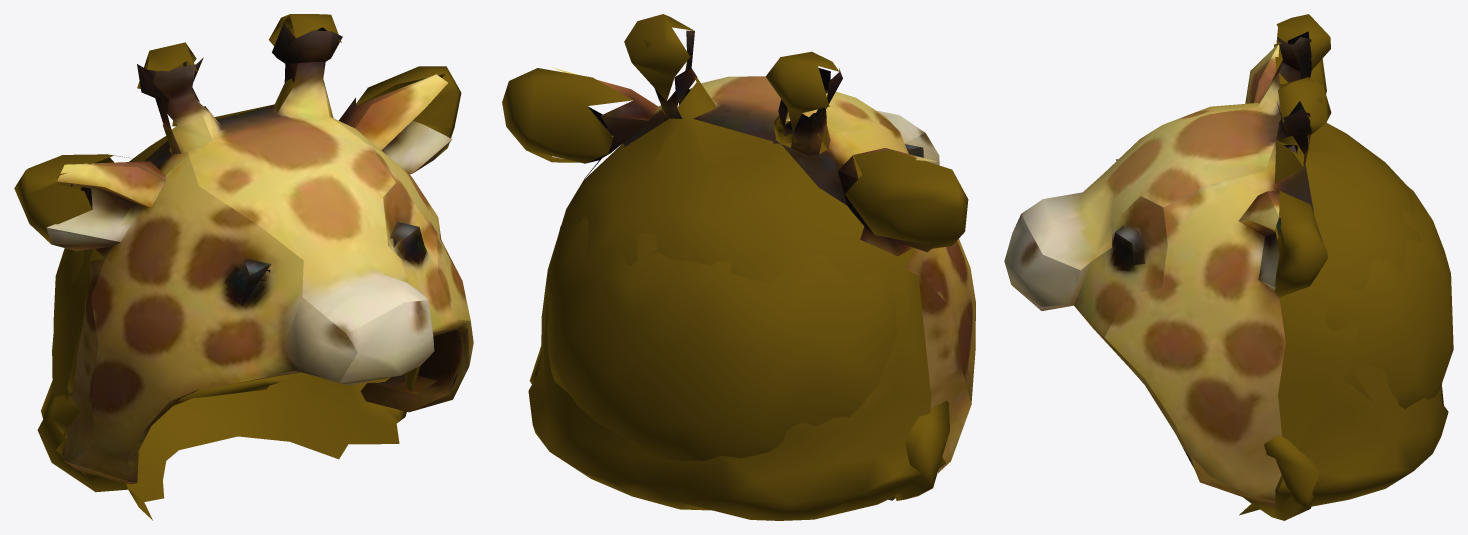
File: giraffe.glb
The picture shows the model from 3 angles, left to right: view 1: azimuth 30°, elevation 25°; view 2: azimuth 150°, elevation 25°; view 3: azimuth 270°, elevation 25°; orthographic projection. The views are drawn at different scales.
Parts seen in each view (by area): view 1: geometry_0, HoodAnatomicalLining; view 2: geometry_0, HoodAnatomicalLining; view 3: geometry_0, HoodAnatomicalLining.
Part boxes in pixels (x1,y1,x2,y2): geometry_0: [14, 14, 473, 484]; HoodAnatomicalLining: [37, 147, 420, 520]; geometry_0: [502, 14, 975, 520]; HoodAnatomicalLining: [529, 121, 949, 500]; geometry_0: [1004, 14, 1448, 508]; HoodAnatomicalLining: [1239, 142, 1453, 520].
Size of the model in its own units: 0.5766 by 0.5485 by 0.5295.
Materials: 2 (1 with a texture image).
